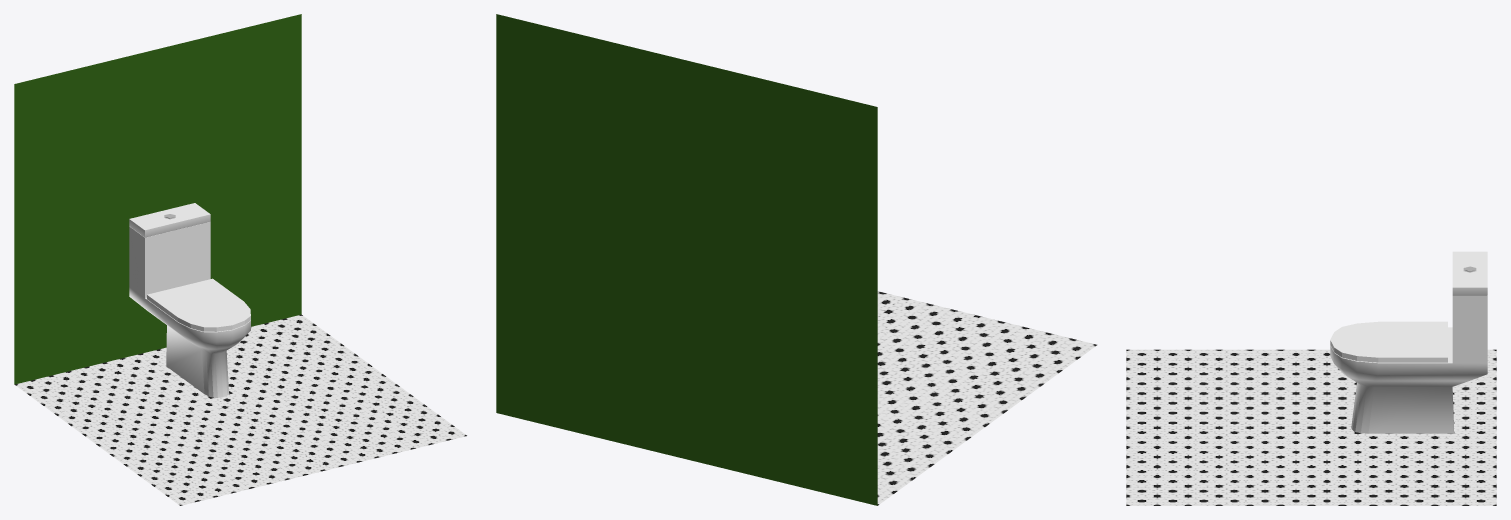
File: Toilet_ Household Props 29.fbx
The picture shows the model from 3 angles, left to right: view 1: azimuth 30°, elevation 25°; view 2: azimuth 150°, elevation 25°; view 3: azimuth 270°, elevation 25°; orthographic projection. The views are drawn at different scales.
Visible parts, largest first — view 1: Wall, Floor, Tank, Base, Seat, Top; view 2: Wall, Floor; view 3: Floor, Base, Seat, Tank, Top.
Boxes of the visible parts, x1,y1,x2,y2 form: Wall: [14, 14, 301, 384]; Floor: [15, 314, 466, 505]; Tank: [129, 221, 210, 297]; Base: [129, 287, 250, 397]; Seat: [147, 278, 250, 331]; Top: [129, 203, 210, 237]; Wall: [496, 14, 877, 505]; Floor: [877, 291, 1096, 505]; Floor: [1126, 349, 1496, 505]; Base: [1330, 327, 1487, 433]; Seat: [1330, 321, 1447, 362]; Tank: [1452, 295, 1487, 363]; Top: [1452, 251, 1487, 295].
Bounding box in the file's own units: 1220 × 1220 × 1220.
4 materials, 1 textured.
